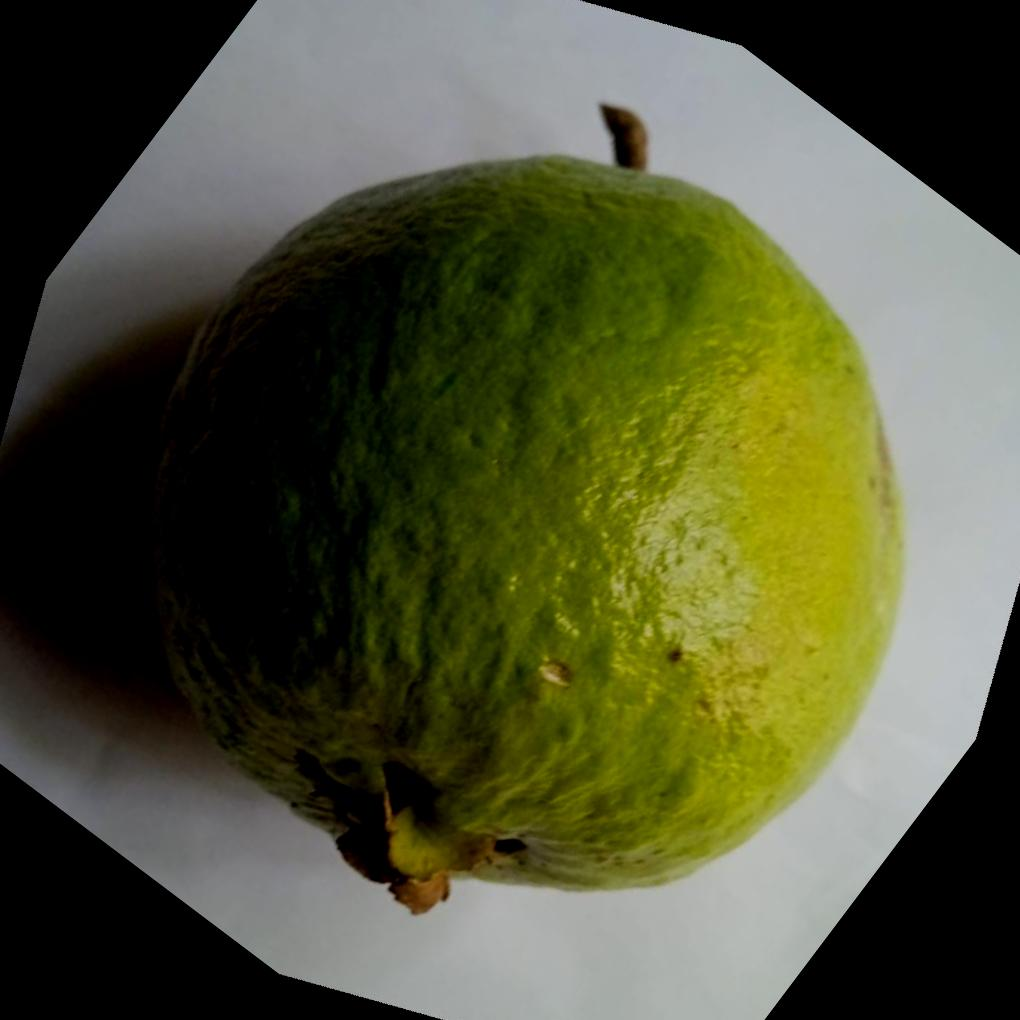FreshGuava: (142, 150, 904, 912)
